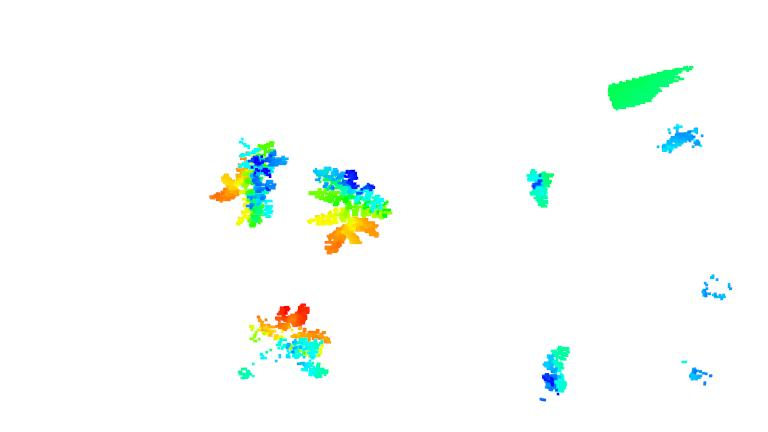chickpea: (234, 301, 335, 384), (306, 164, 393, 259), (206, 136, 292, 230), (537, 340, 576, 403), (526, 167, 556, 211)
